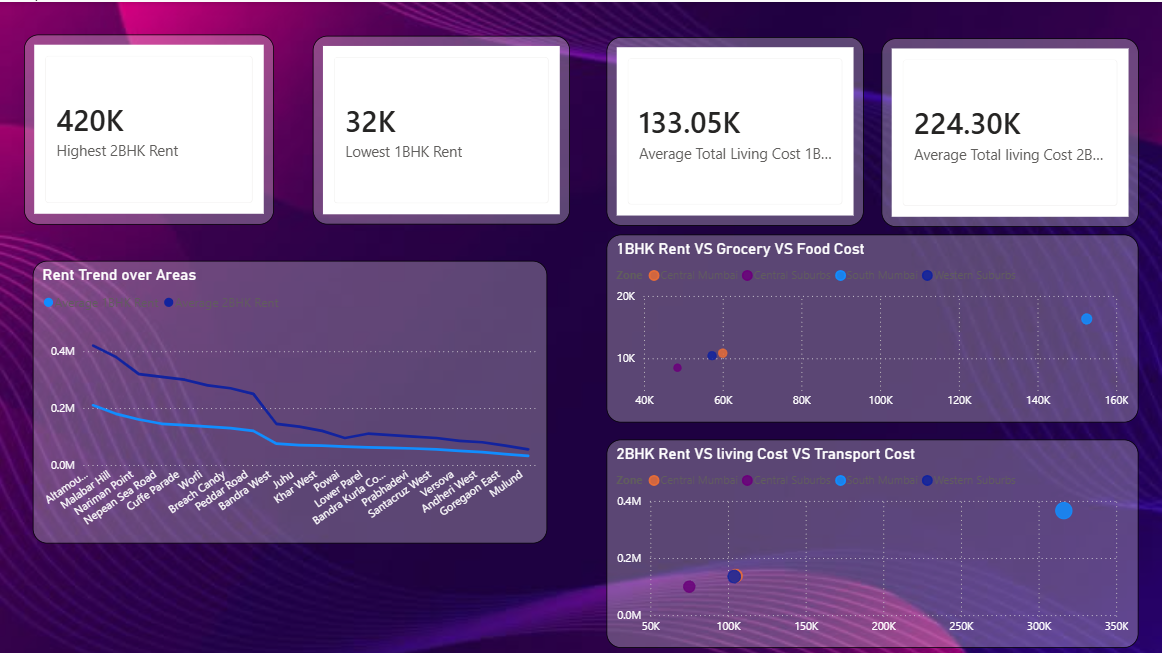

This screenshot's page, from the dashboard's own definition file:
{"tool":"powerbi","page":{"name":"Page 3","canvas":[1280,720],"ordinal":2},"visuals":[{"type":"scatterChart","title":"1BHK Rent VS Grocery VS Food Cost","fields":{"Size":["Sheet1.Average Food Cost"],"Series":["Sheet1.Zone"],"X":["Sheet1.Average 1BHK Rent"],"Y":["Sheet1.Average Grocery COST"]},"box":[666.3,255.5,584.4,206.1],"z":0},{"type":"scatterChart","title":"2BHK Rent VS living Cost VS Transport Cost ","fields":{"Series":["Sheet1.Zone"],"X":["Sheet1.Average 2BHK Rent"],"Y":["Sheet1.Average Total living Cost 2BHK"],"Size":["Sheet1.Average Transport Cost"]},"box":[666.3,479.9,584.4,228.7],"z":1000},{"type":"cardVisual","fields":{"Data":["Sheet1.Highest 2BHK Rent"]},"box":[27.4,35.7,274.4,208.6],"z":2000},{"type":"cardVisual","fields":{"Data":["Sheet1.Lowest 1BHK Rent"]},"box":[344.4,37,282.7,207.2],"z":3000},{"type":"cardVisual","fields":{"Data":["Sheet1.Average Total Living Cost 1BHK"]},"box":[666.9,38.4,282.7,207.2],"z":4000},{"type":"cardVisual","fields":{"Data":["Sheet1.Average Total living Cost 2BHK"]},"box":[968.8,39.8,282.7,207.2],"z":5000},{"type":"lineChart","title":"Rent Trend over Areas ","fields":{"Category":["Sheet1.Area"],"Y":["Sheet1.Average 1BHK Rent","Sheet1.Average 2BHK Rent"]},"box":[36.7,283.7,564.6,310.5],"z":6000}]}

Visuals, with their boxes in screenshot pixels (x1, y1, x2, y2), scaled from the page's 1280x720 canvas onto the 1162x653 screenshot:
"1BHK Rent VS Grocery VS Food Cost" scatterChart: {"left": 605, "top": 232, "right": 1135, "bottom": 419}
"2BHK Rent VS living Cost VS Transport Cost " scatterChart: {"left": 605, "top": 435, "right": 1135, "bottom": 643}
cardVisual - Sheet1.Highest 2BHK Rent: {"left": 25, "top": 32, "right": 274, "bottom": 222}
cardVisual - Sheet1.Lowest 1BHK Rent: {"left": 313, "top": 34, "right": 569, "bottom": 221}
cardVisual - Sheet1.Average Total Living Cost 1BHK: {"left": 605, "top": 35, "right": 862, "bottom": 223}
cardVisual - Sheet1.Average Total living Cost 2BHK: {"left": 879, "top": 36, "right": 1136, "bottom": 224}
"Rent Trend over Areas " lineChart: {"left": 33, "top": 257, "right": 546, "bottom": 539}
